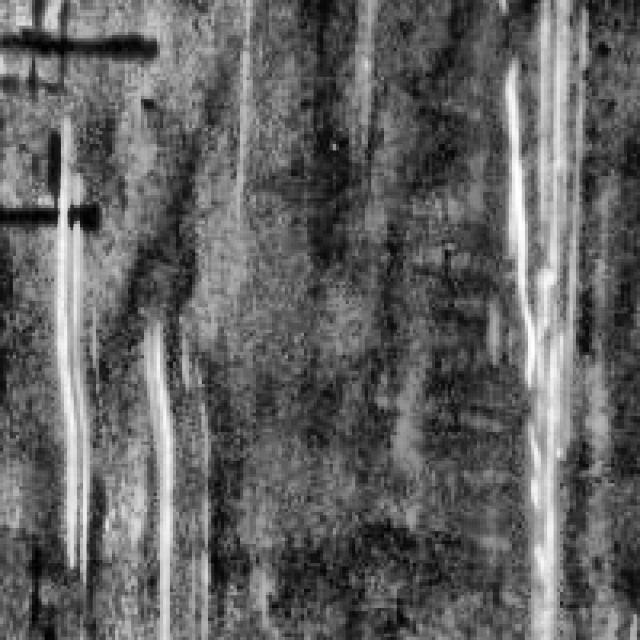Inclusion: (492, 3, 580, 630), (42, 160, 100, 579), (131, 316, 205, 630)
Patches: (0, 0, 163, 106), (0, 176, 106, 240)
